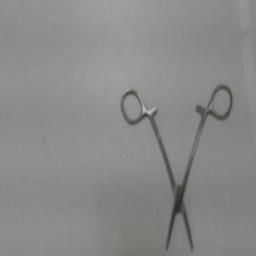Mayo Needle Holder: (117, 82, 237, 252)
